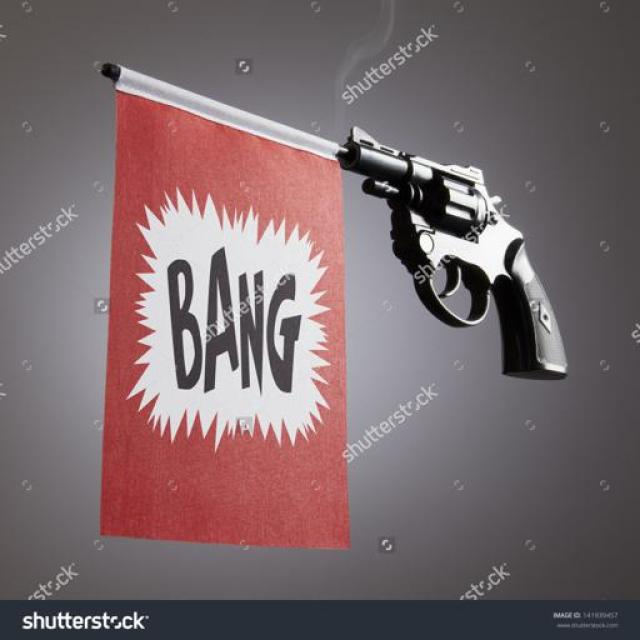pistol: (334, 126, 566, 382)
